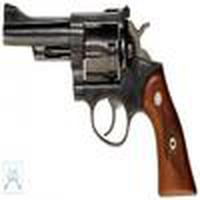gun: (3, 4, 192, 200)
